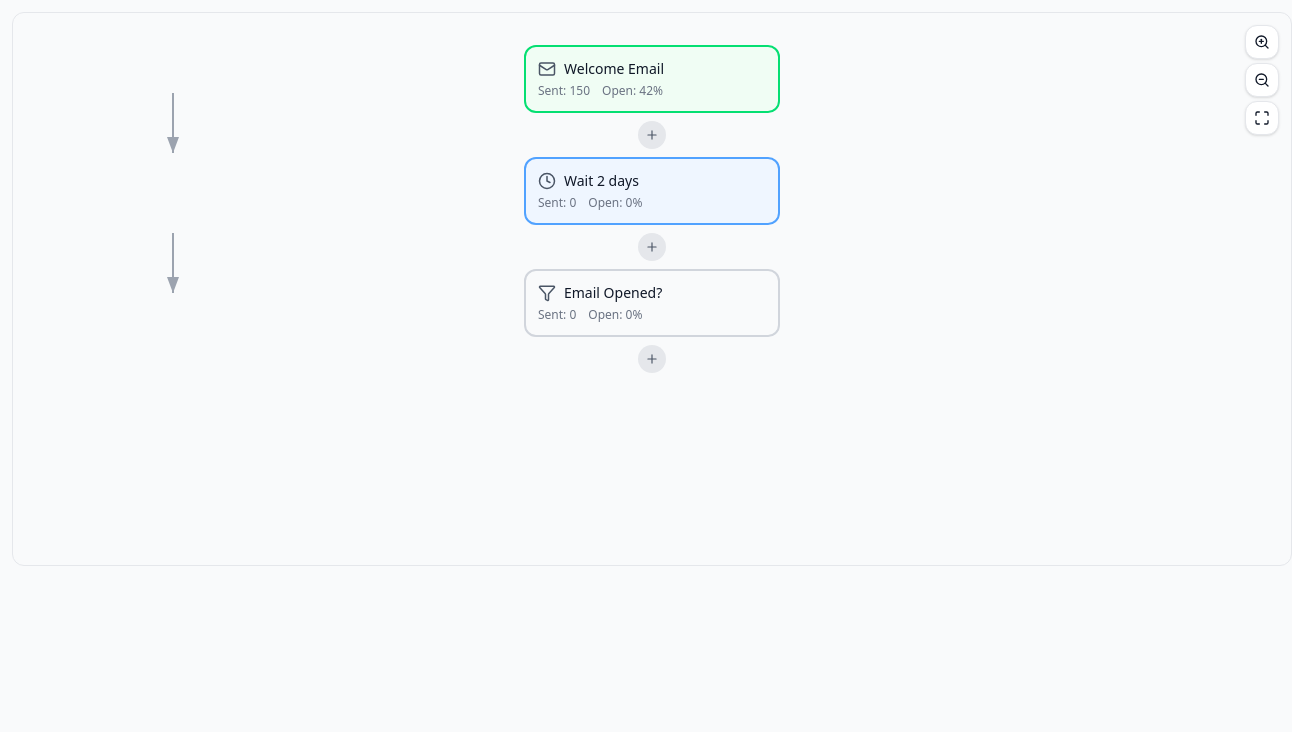
SequenceBuilder › clicking add-step button shows the type dropdown
Click the button with test id "add-step-button" below "150". click: click(652, 135)
box: [638, 121, 666, 149]
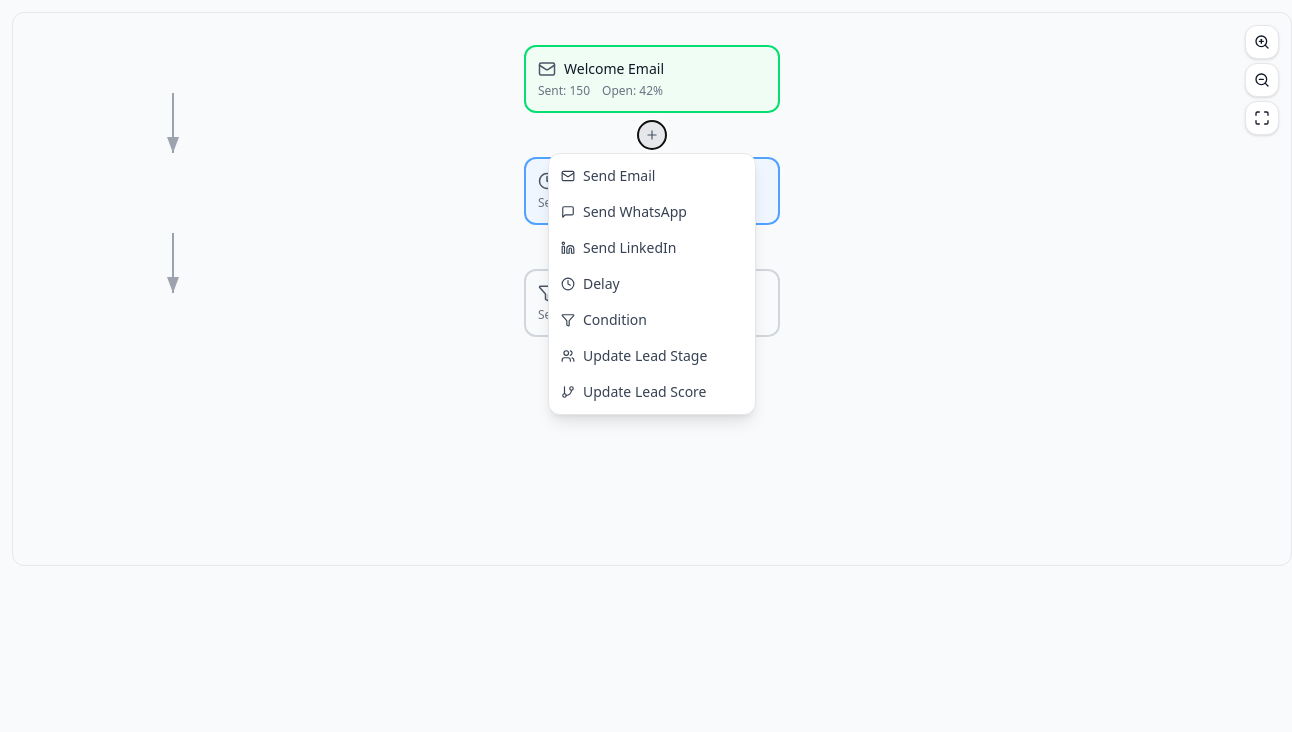
expect the element with test id "step-type-dropdown" is shown: met, box [548, 153, 756, 415]
expect the button "Send Email" is shown: met, box [549, 158, 755, 194]
expect the button "Delay" is shown: met, box [549, 266, 755, 302]
